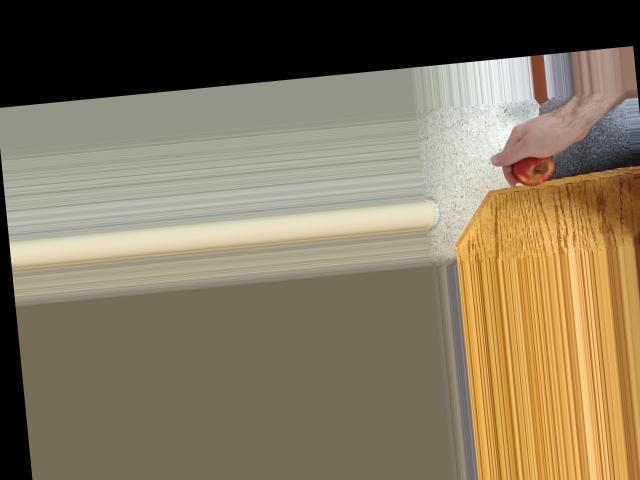apple: (510, 142, 557, 187)
